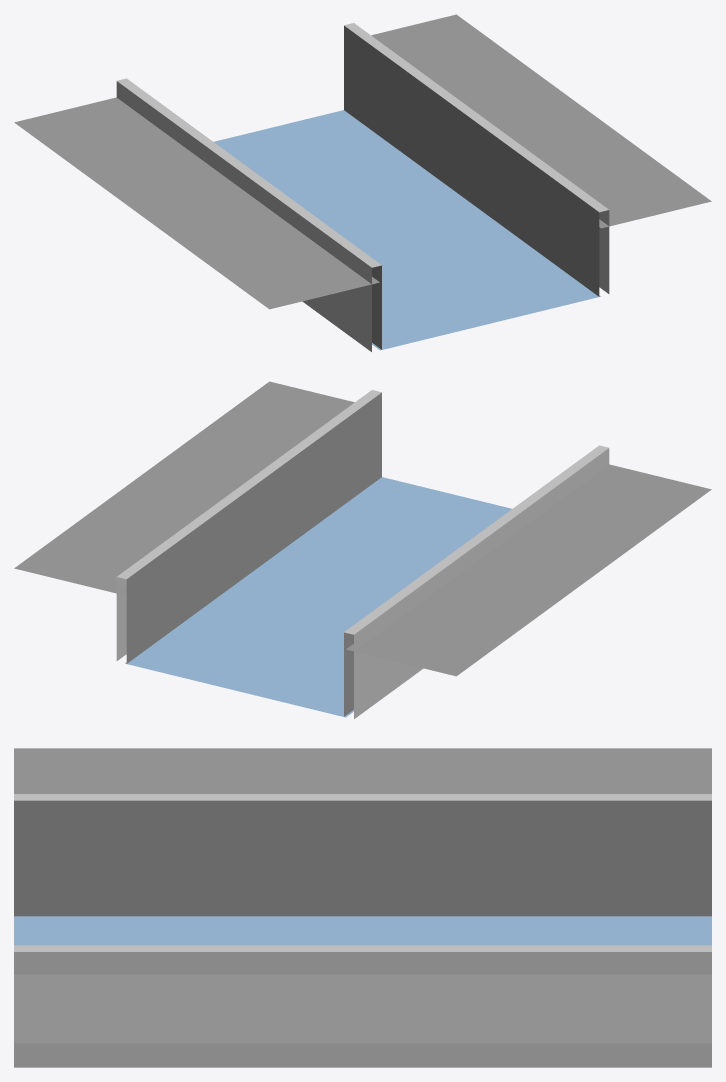
Rendered from road_tile_river_1x1_002.fbx.
3 views of the same model, one above another, from view 1: azimuth 30°, elevation 25°; view 2: azimuth 150°, elevation 25°; view 3: azimuth 270°, elevation 25° (orthographic). The views are drawn at different scales.
Parts seen in each view (by area): view 1: road_tile_river_1x1_002; view 2: road_tile_river_1x1_002; view 3: road_tile_river_1x1_002.
Part boxes in pixels (x1,y1,x2,y2): road_tile_river_1x1_002: (14, 14, 711, 351); road_tile_river_1x1_002: (14, 381, 711, 718); road_tile_river_1x1_002: (14, 748, 711, 1067).
Bounding box in the file's own units: 800 × 146 × 800.
